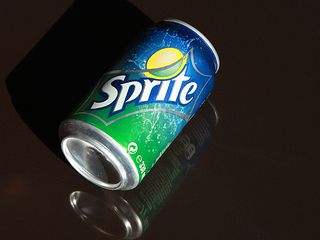Can: (57, 12, 224, 197)
